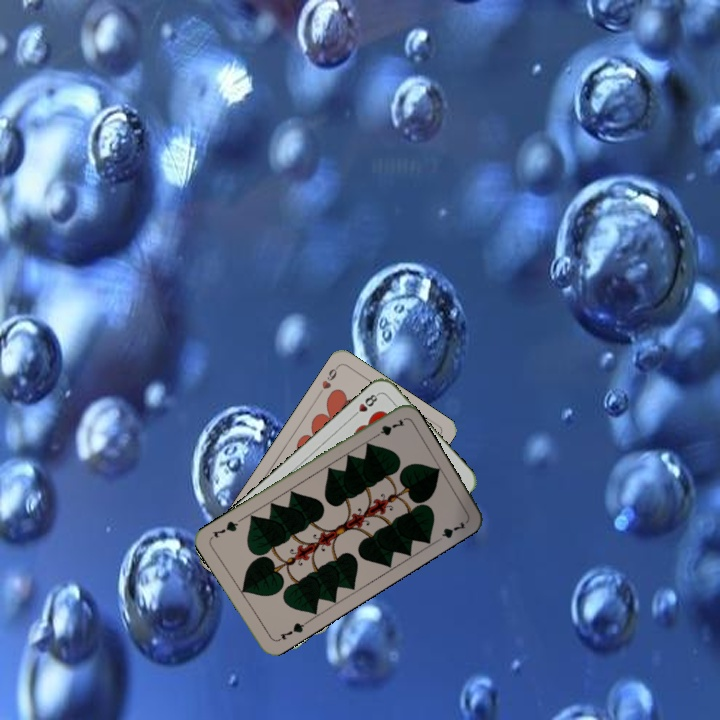G7: (368, 415, 407, 442), (273, 618, 310, 644)
H8: (348, 389, 381, 420)
H9: (314, 362, 341, 398)
